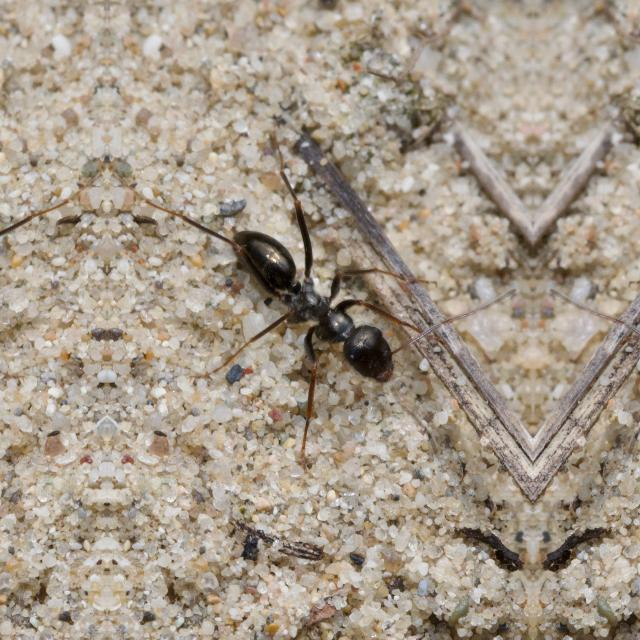Cataglyphis: (219, 192, 413, 418)
